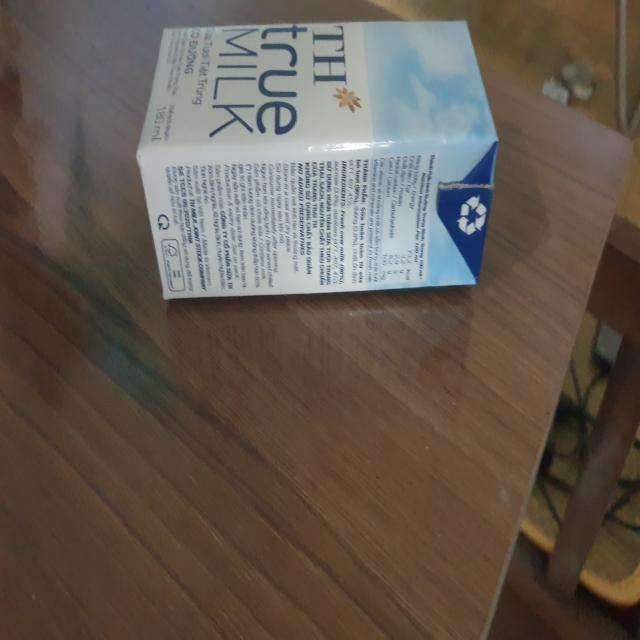TH: (135, 17, 501, 306)
